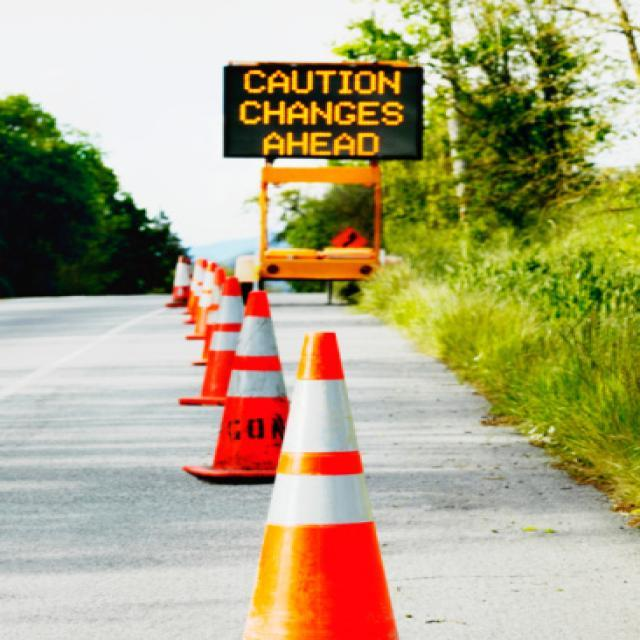traffic cone: (226, 331, 418, 640), (182, 290, 292, 483), (178, 277, 245, 407), (165, 256, 190, 308)
